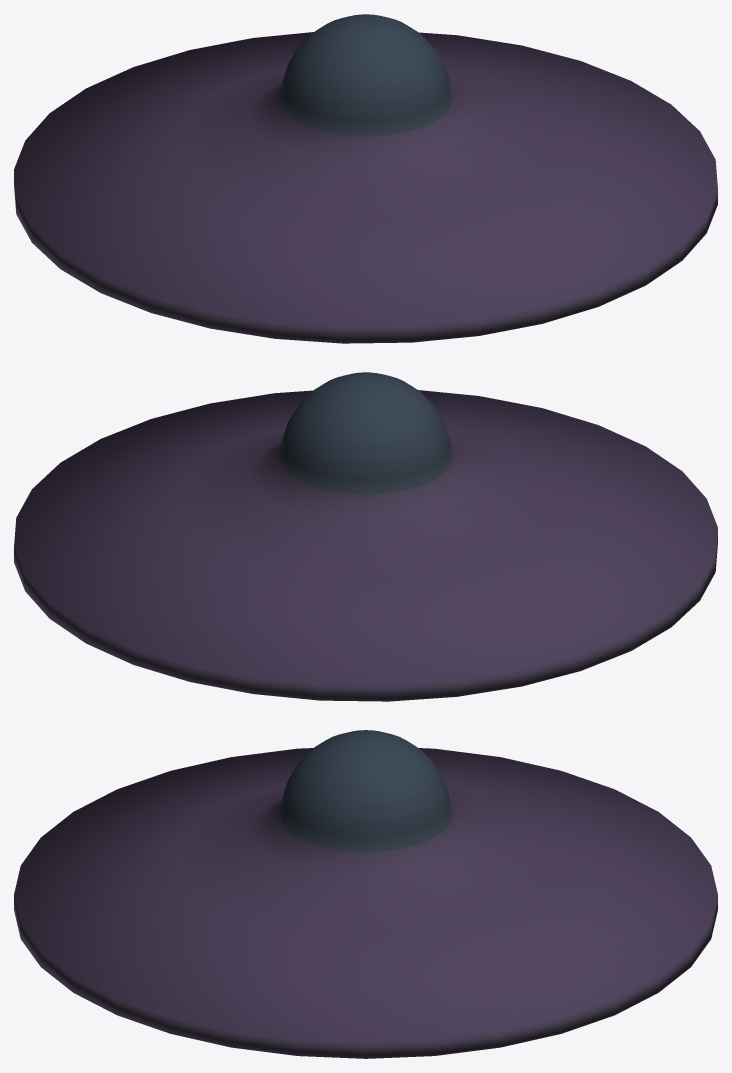
File: ufo.obj
3 renders of one model, top to bottom at view 1: azimuth 30°, elevation 25°; view 2: azimuth 150°, elevation 25°; view 3: azimuth 270°, elevation 25°, orthographic.
Visible parts, largest first — view 1: Circle_Circle.001; view 2: Circle_Circle.001; view 3: Circle_Circle.001.
Boxes of the visible parts, bbox=[...] form: Circle_Circle.001: bbox=[14, 14, 717, 343]; Circle_Circle.001: bbox=[14, 372, 717, 701]; Circle_Circle.001: bbox=[14, 730, 717, 1058].
Size of the model in its own units: 8.21 by 2.27 by 8.21.
